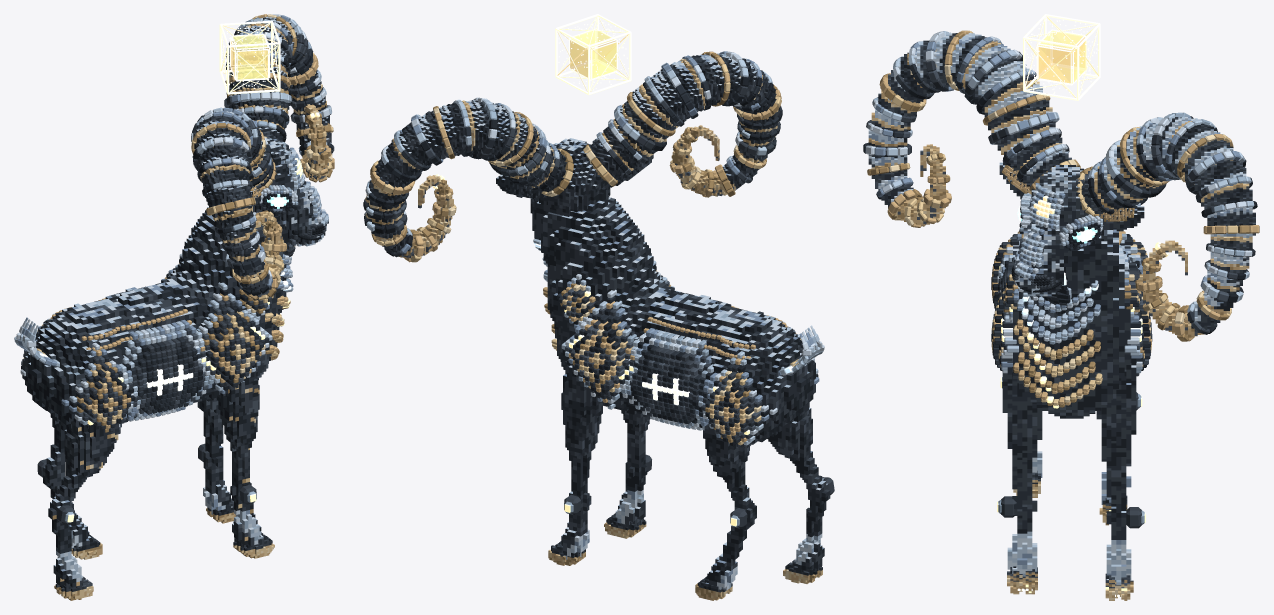
File: voxel-goat.glb
3 views of the same model, side by side, from view 1: azimuth 30°, elevation 25°; view 2: azimuth 150°, elevation 25°; view 3: azimuth 270°, elevation 25° (orthographic). The views are drawn at different scales.
Visible parts, largest first — view 1: Torso, withers and chest, Flank • Double-cross seal, Coiled ram horn • left, Coiled ram horn • left • Stacked rib facets, Coiled ram horn • right • Stacked rib facets, Shoulder • Concentric rhombi, Coiled ram horn • right, Left hindleg, Left foreleg, Rump • Rhombus glyphs, Cranium and muzzle, Right foreleg (+14 smaller); view 2: Torso, withers and chest, Coiled ram horn • left, Coiled ram horn • right, Coiled ram horn • right • Stacked rib facets, Coiled ram horn • left • Stacked rib facets, Flank • Double-cross seal, Shoulder • Concentric rhombi, Right foreleg, Left hindleg, Rump • Rhombus glyphs, Right hindleg, Cranium and muzzle (+9 smaller); view 3: Coiled ram horn • left, Coiled ram horn • right, Torso, withers and chest, Coiled ram horn • right • Stacked rib facets, Coiled ram horn • left • Stacked rib facets, Stepped chest chevrons, Right foreleg, Left foreleg, Cranium and muzzle, Shoulder • Concentric rhombi, Brow crest and crystalline nose bridge, Floating cube • Optical interior (+10 smaller).
Boxes of the visible parts, x1,y1,x2,y2 form: Torso, withers and chest: [22, 207, 288, 428]; Flank • Double-cross seal: [118, 319, 213, 421]; Coiled ram horn • left: [193, 111, 283, 297]; Coiled ram horn • left • Stacked rib facets: [191, 107, 286, 300]; Coiled ram horn • right • Stacked rib facets: [224, 14, 334, 182]; Shoulder • Concentric rhombi: [161, 253, 272, 396]; Coiled ram horn • right: [226, 16, 332, 180]; Left hindleg: [48, 422, 121, 587]; Left foreleg: [216, 367, 263, 546]; Rump • Rhombus glyphs: [20, 313, 136, 432]; Cranium and muzzle: [255, 137, 326, 246]; Right foreleg: [197, 400, 232, 514]; Torso, withers and chest: [530, 195, 815, 444]; Coiled ram horn • left: [589, 54, 780, 196]; Coiled ram horn • right: [365, 100, 567, 258]; Coiled ram horn • right • Stacked rib facets: [363, 97, 573, 262]; Coiled ram horn • left • Stacked rib facets: [583, 51, 782, 197]; Flank • Double-cross seal: [621, 328, 718, 430]; Shoulder • Concentric rhombi: [561, 260, 674, 409]; Right foreleg: [561, 359, 602, 559]; Left hindleg: [767, 402, 830, 573]; Rump • Rhombus glyphs: [700, 321, 819, 447]; Right hindleg: [703, 423, 756, 590]; Cranium and muzzle: [537, 138, 610, 216]; Coiled ram horn • left: [868, 33, 1071, 224]; Coiled ram horn • right: [1081, 117, 1255, 337]; Torso, withers and chest: [1007, 226, 1136, 418]; Coiled ram horn • right • Stacked rib facets: [1076, 112, 1259, 341]; Coiled ram horn • left • Stacked rib facets: [863, 30, 1080, 227]; Stepped chest chevrons: [1013, 280, 1102, 408]; Right foreleg: [1096, 356, 1136, 584]; Left foreleg: [1002, 367, 1042, 589]; Cranium and muzzle: [1015, 165, 1103, 296]; Shoulder • Concentric rhombi: [991, 289, 1152, 376]; Brow crest and crystalline nose bridge: [1014, 184, 1065, 279]; Floating cube • Optical interior: [1038, 30, 1086, 83].
Bounding box in the file's own units: 6.77 × 8.74 × 5.53.
